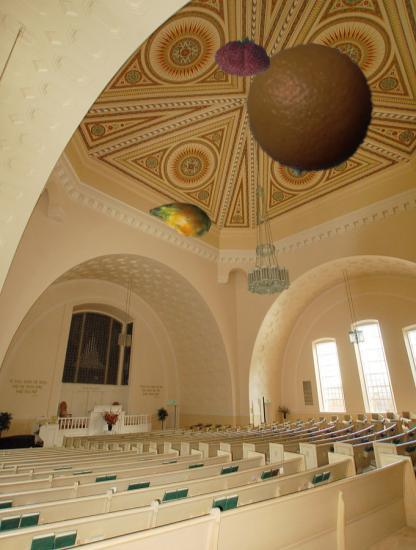Cactus: (149, 185, 212, 248)
Orange: (243, 44, 376, 177)
Strawberry: (214, 29, 270, 85)
